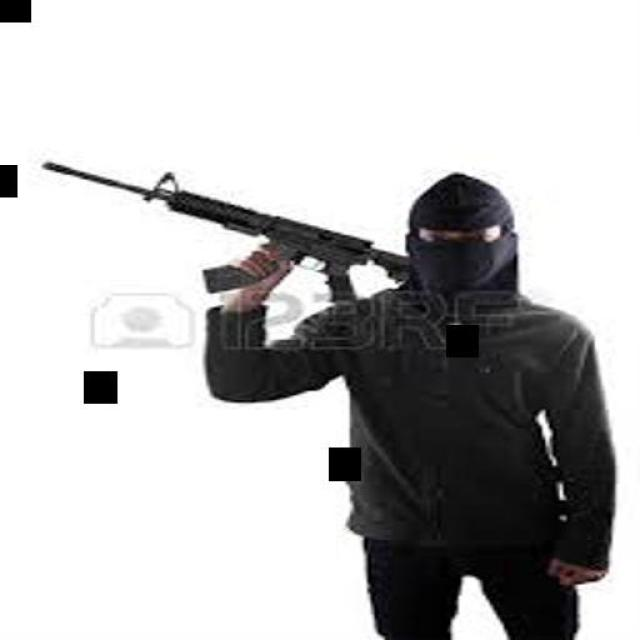gun: (40, 158, 414, 324)
